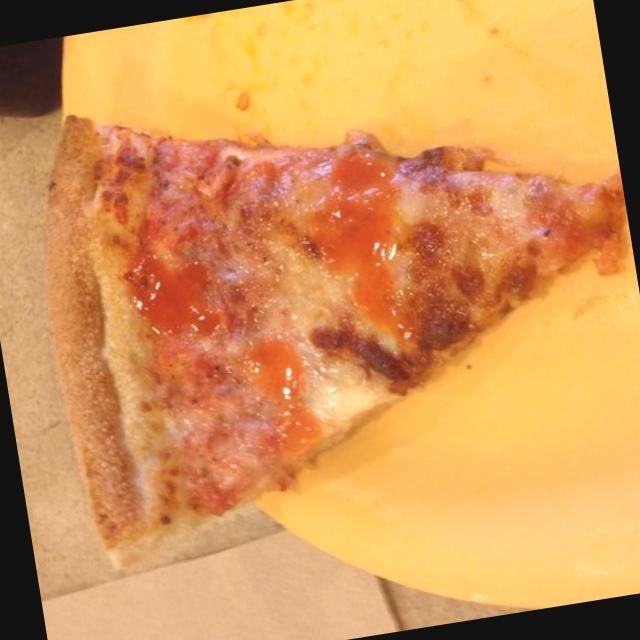pizza: (47, 116, 625, 553)
